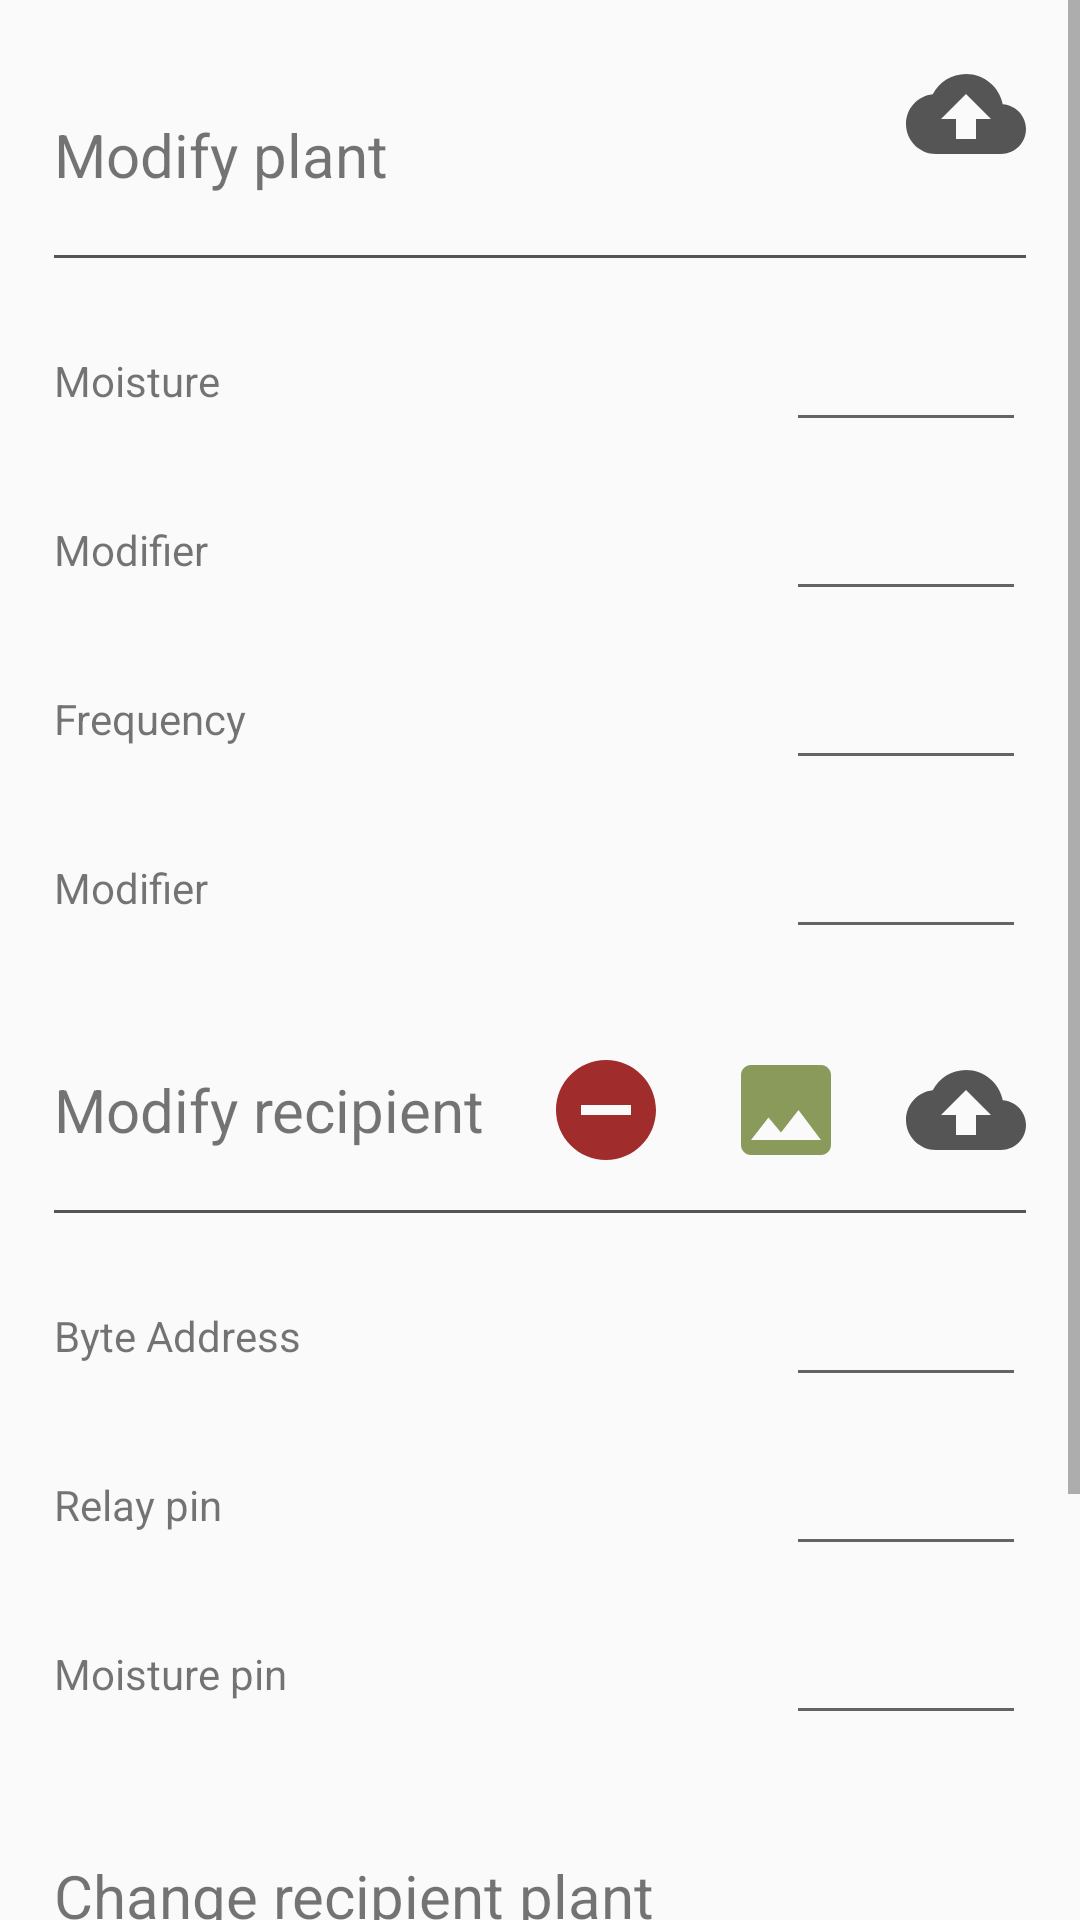

Icon bounding boxes for this 1080w x 1920h phone screenshot, format (x1, y1, x2, y2):
cloud upload: (906, 74, 1026, 154), (906, 1070, 1026, 1150)
remove circle: (556, 1060, 656, 1160)
